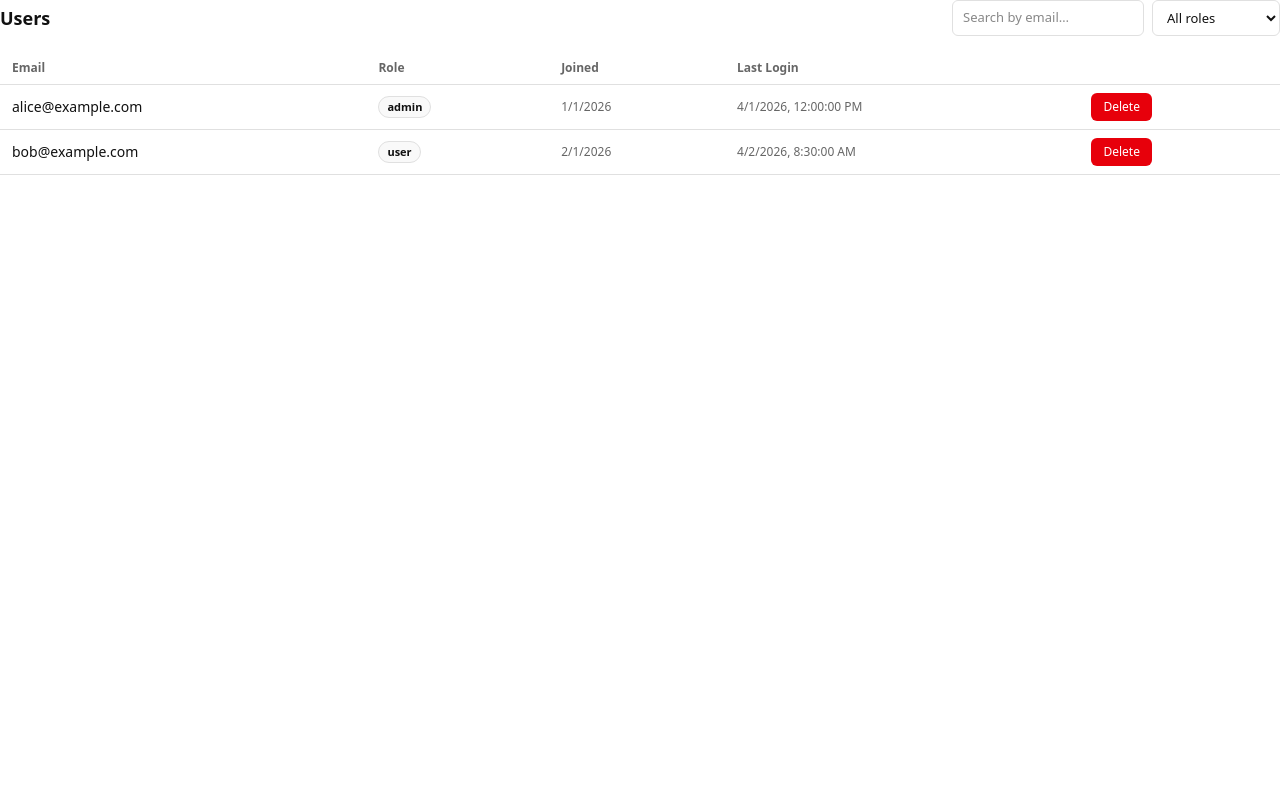
Scenario: UsersPanel › deletes a different user while detail panel is open does not close panel
Open detail for alice
What coordinates should you click on to do the following:
click the text "alice@example.com"
I would click on:
 (77, 106)
Its box is [0,84,366,130].
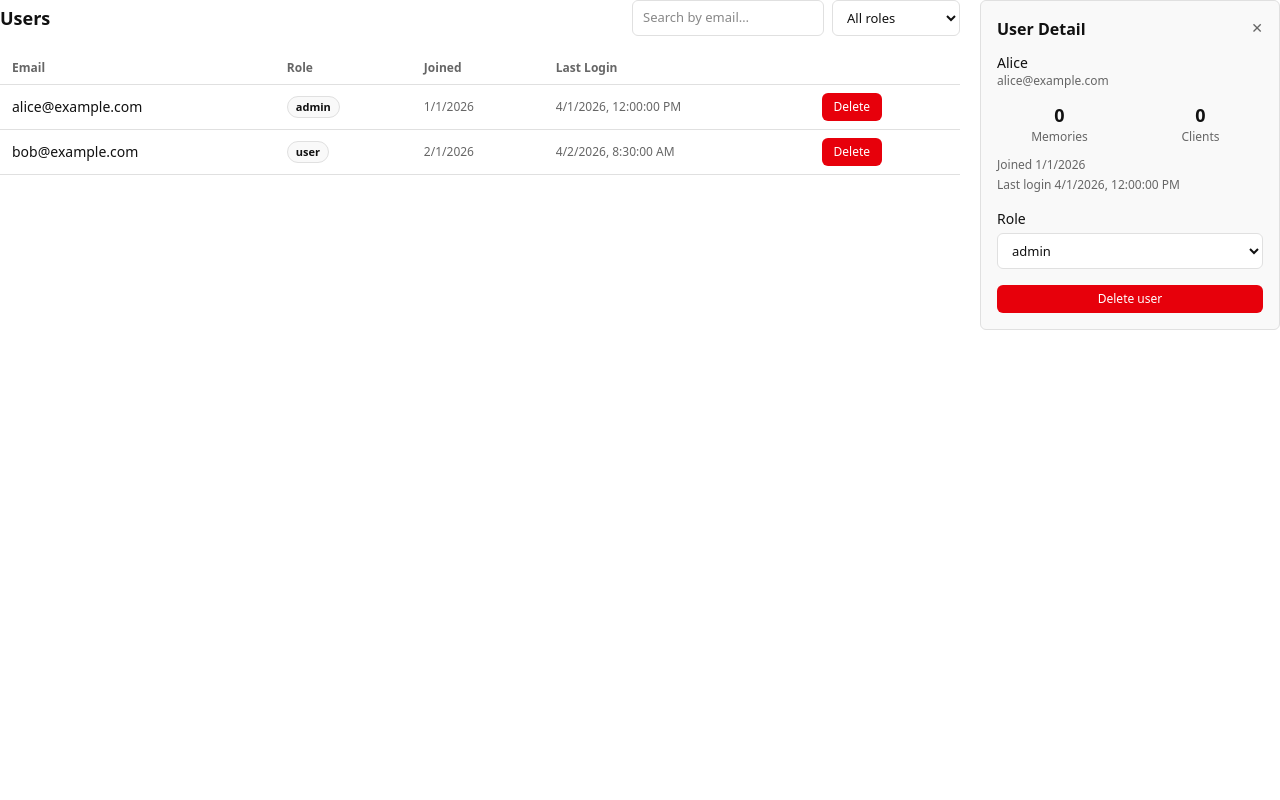
Delete bob (not alice) — via table button
What coordinates should you click on to do the following:
click the button "Delete" in the row of "bob@example.com"
I would click on:
 (852, 152)
Its box is [822,138,882,166].
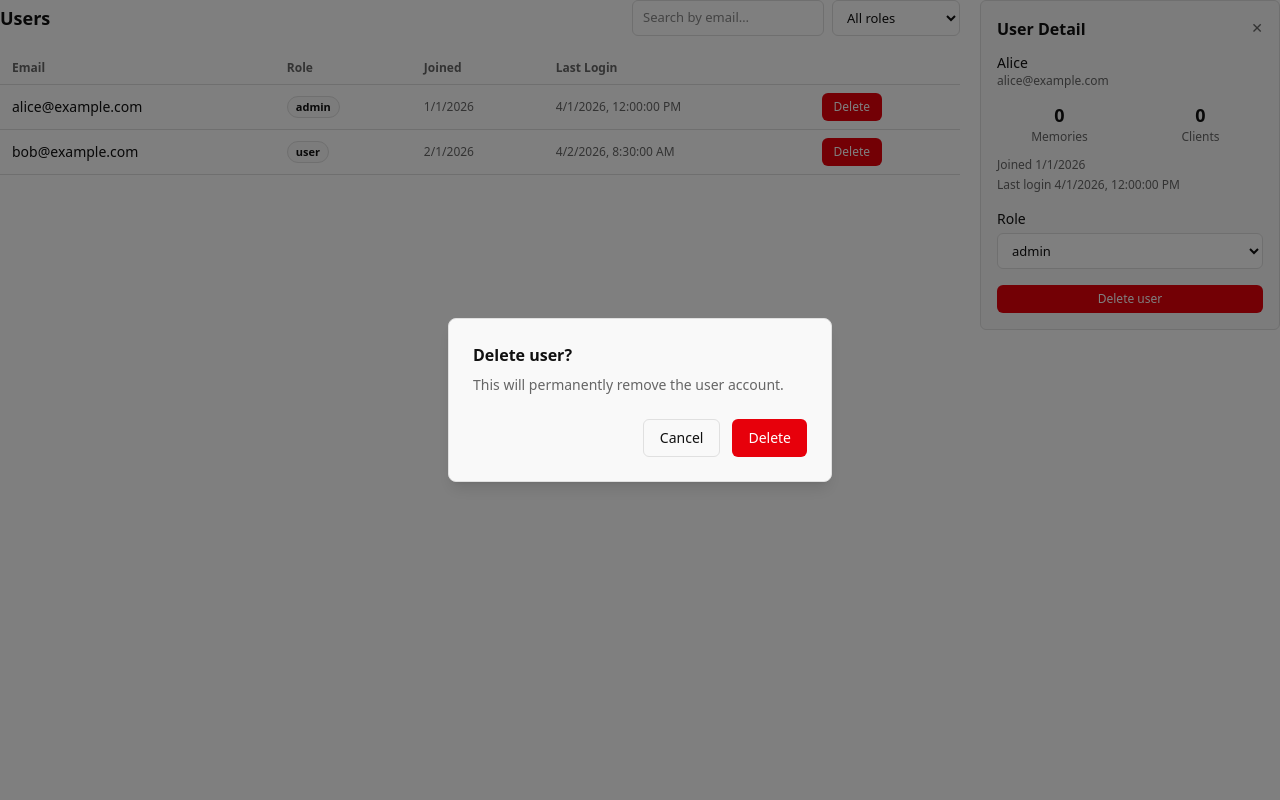
What coordinates should you click on to do the following:
click the button "Delete"
I would click on:
 (770, 438)
Its box is [732,419,807,457].
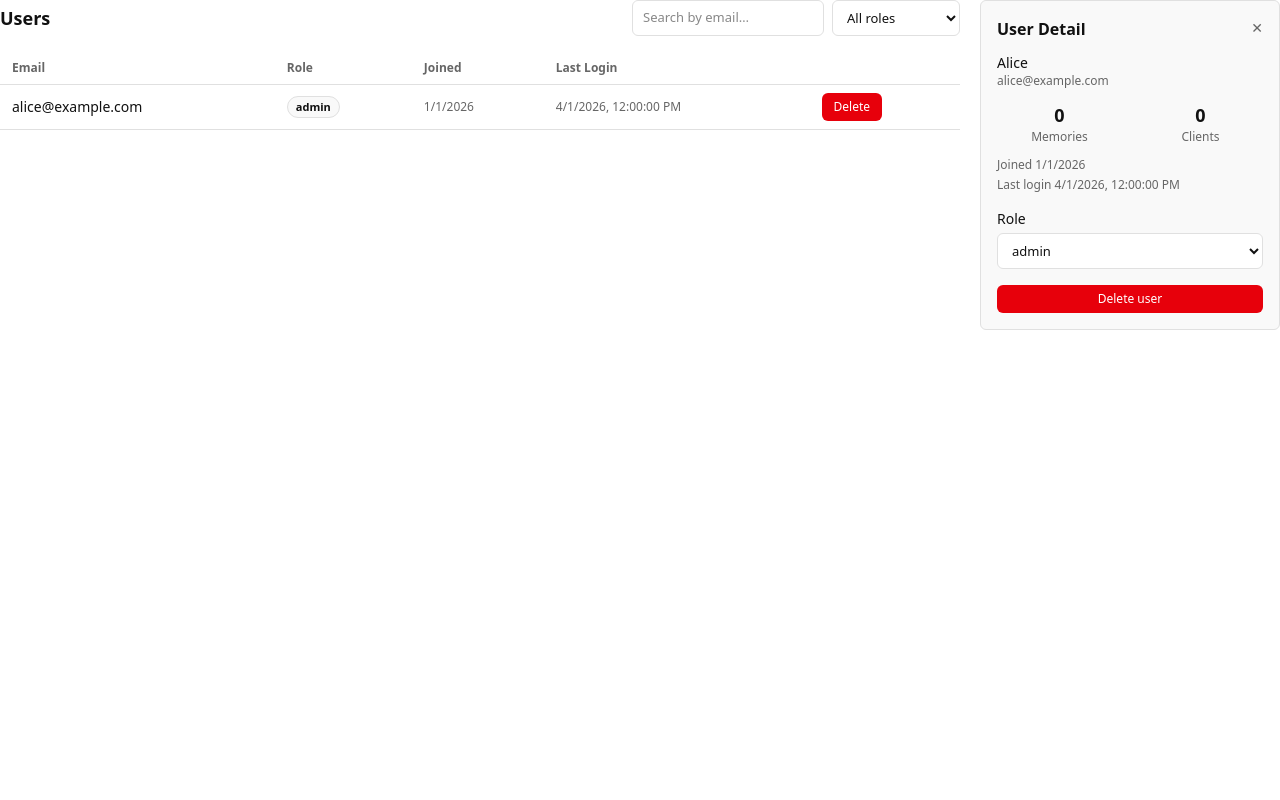
Check: the element with test id "user-detail" is shown, box [980,0,1279,330]
Check: the text "bob@example.com" is gone
